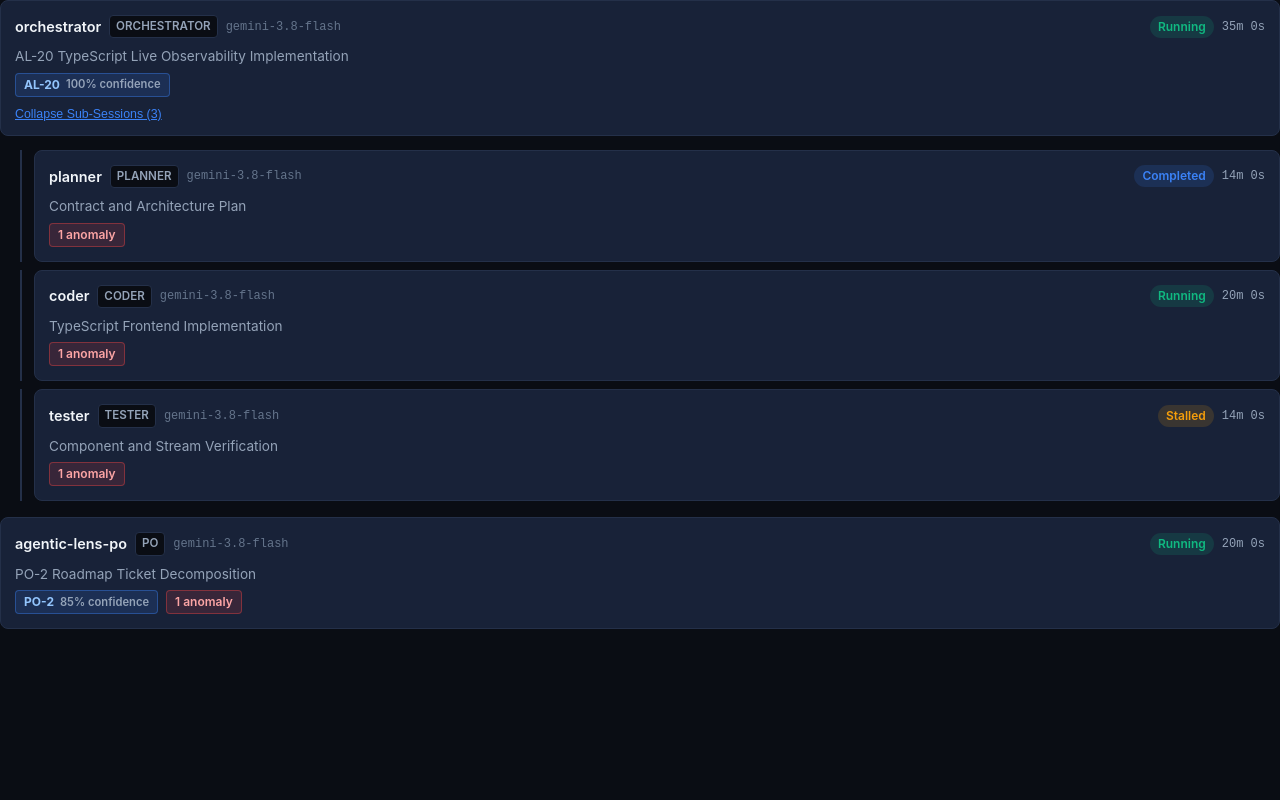
Test: LiveSessionTree Component › toggles hierarchical child sub-sessions visibility on toggle button click
Expected: the text "TypeScript Frontend Implementation" is shown, 49,318 -> 283,334
Expected: the text "Contract and Architecture Plan" is shown, 49,198 -> 246,214
// Click collapse button
Click the button "Collapse Sub-Sessions (3)" at (88, 114), box 15,107 -> 162,121
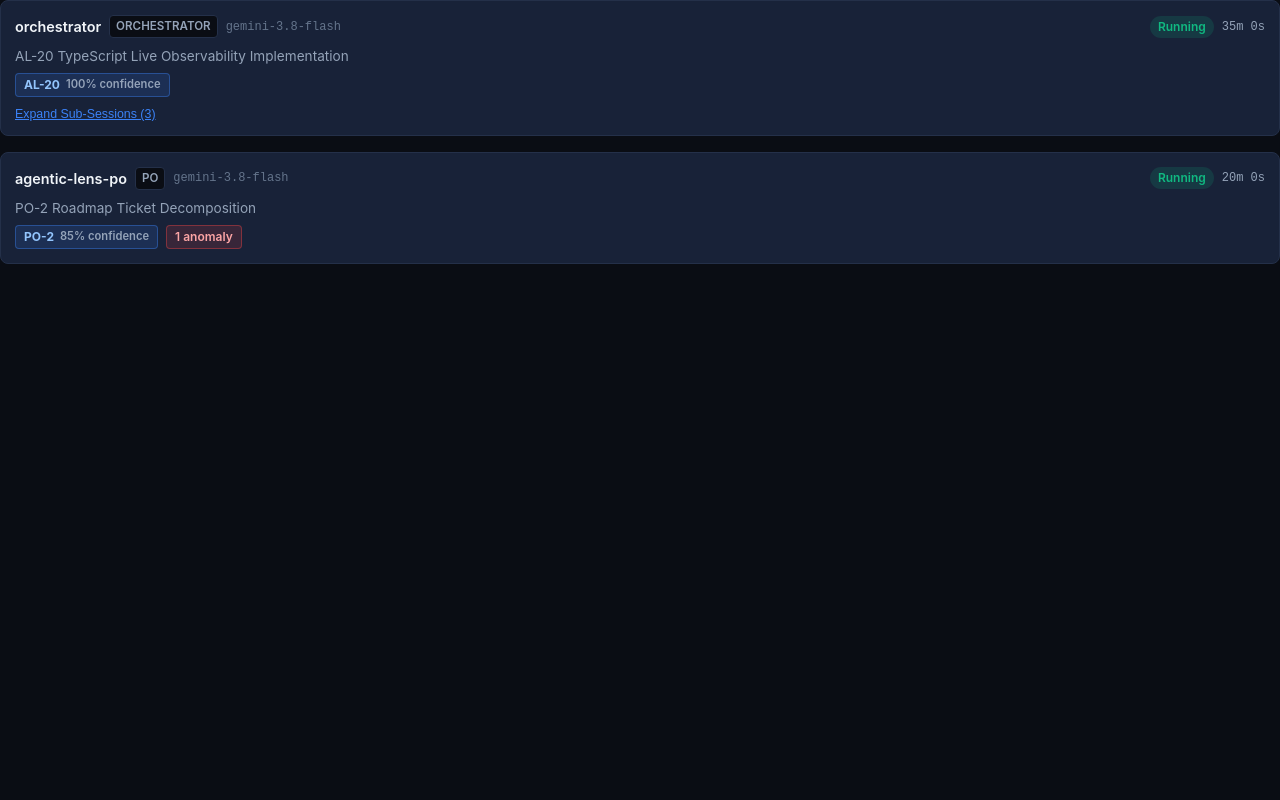
Expected: the text "TypeScript Frontend Implementation" is gone
Expected: the button "Expand Sub-Sessions (3)" is shown
// Click expand button to restore
Click the button "Expand Sub-Sessions (3)" at (85, 114), box 15,107 -> 156,121
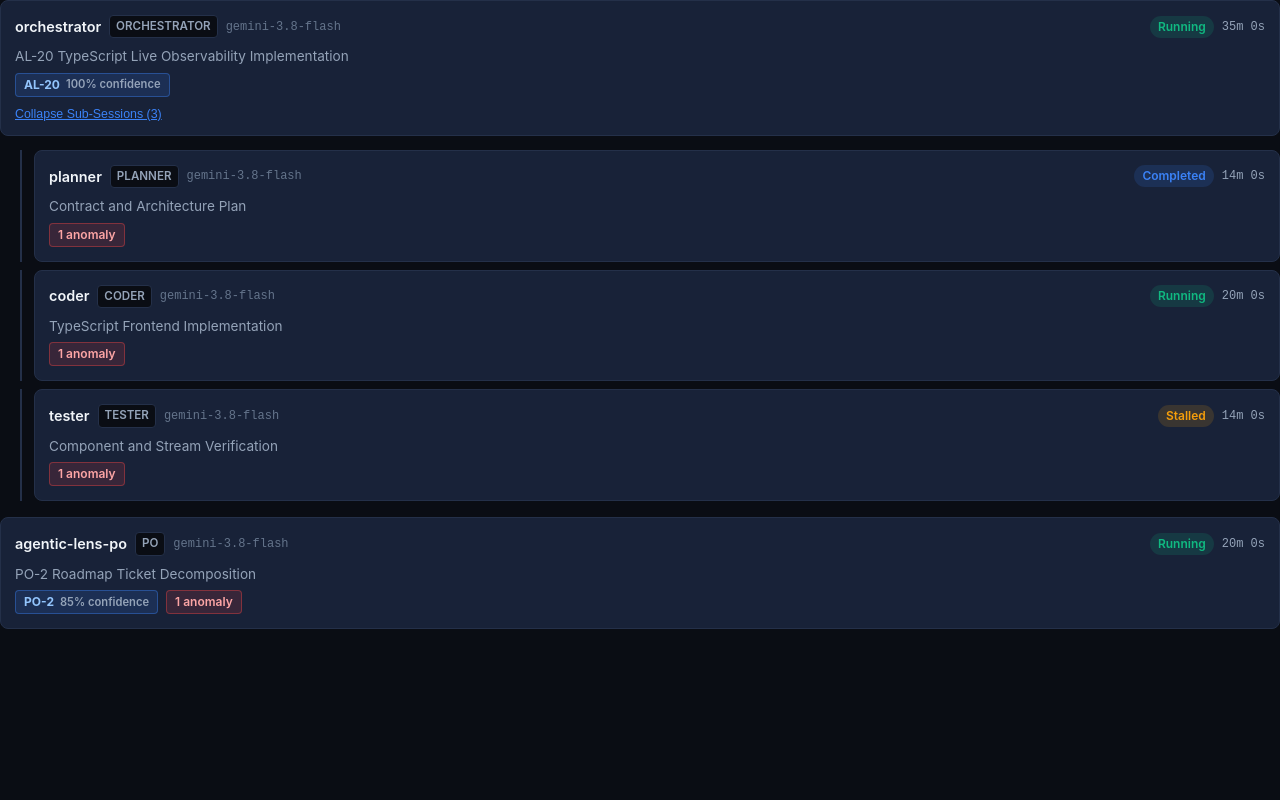
Expected: the text "TypeScript Frontend Implementation" is shown, 49,318 -> 283,334
